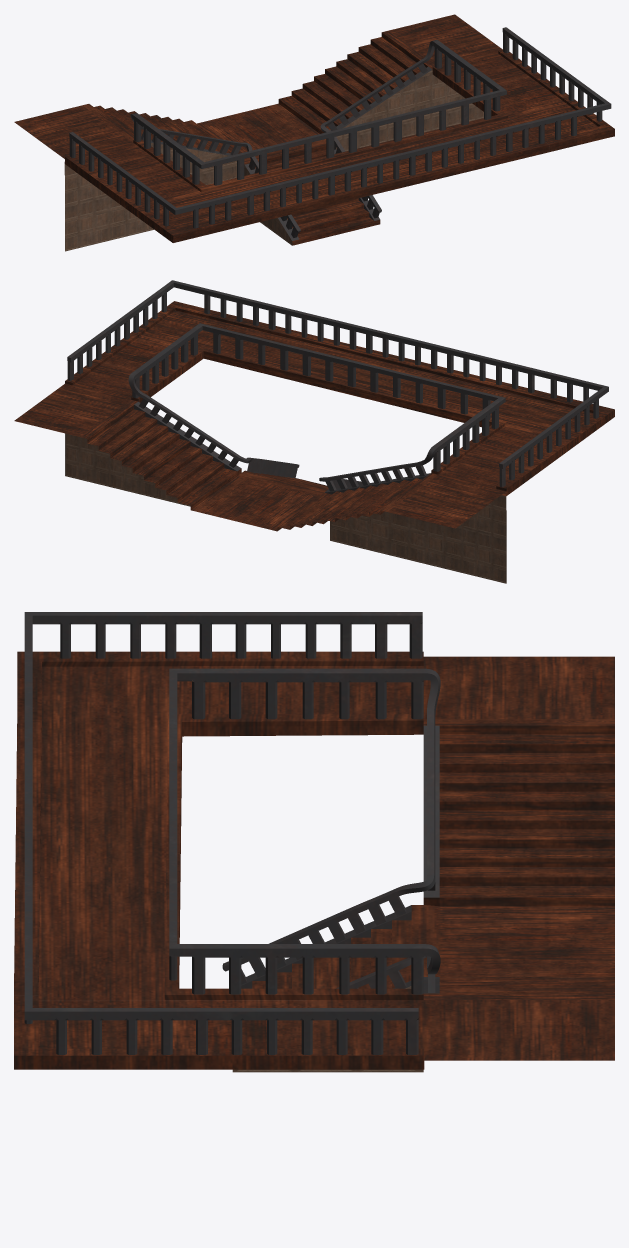
The model's file is Stairs.fbx.
The picture shows the model from 3 angles, top to bottom: view 1: azimuth 30°, elevation 25°; view 2: azimuth 150°, elevation 25°; view 3: azimuth 270°, elevation 25°; orthographic projection. The views are drawn at different scales.
Visible parts, largest first — view 1: polySurface67; view 2: polySurface67; view 3: polySurface67.
Boxes of the visible parts, left/top/right/bottom form: polySurface67: left=14, top=14, right=614, bottom=251; polySurface67: left=14, top=280, right=614, bottom=583; polySurface67: left=14, top=612, right=614, bottom=1072.
Size of the model in its own units: 1500 by 388 by 943.
